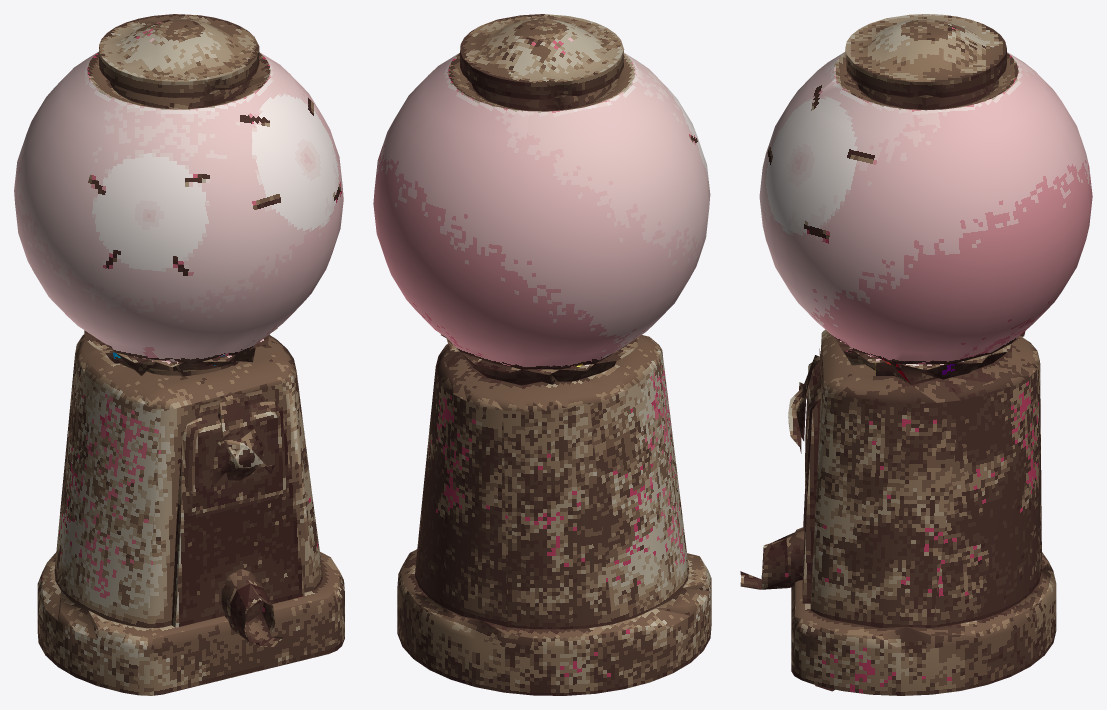
The model's file is gumball_machine.glb.
3 renders of one model, left to right at view 1: azimuth 30°, elevation 25°; view 2: azimuth 150°, elevation 25°; view 3: azimuth 270°, elevation 25°, orthographic. The views are drawn at different scales.
Parts seen in each view (by area): view 1: mesh; view 2: mesh; view 3: mesh.
Boxes of the visible parts, x1,y1,x2,y2 form: mesh: [14, 14, 344, 695]; mesh: [373, 14, 711, 695]; mesh: [740, 14, 1092, 695].
Size of the model in its own units: 0.1973 by 0.4 by 0.2086.
1 material, 1 textured.
